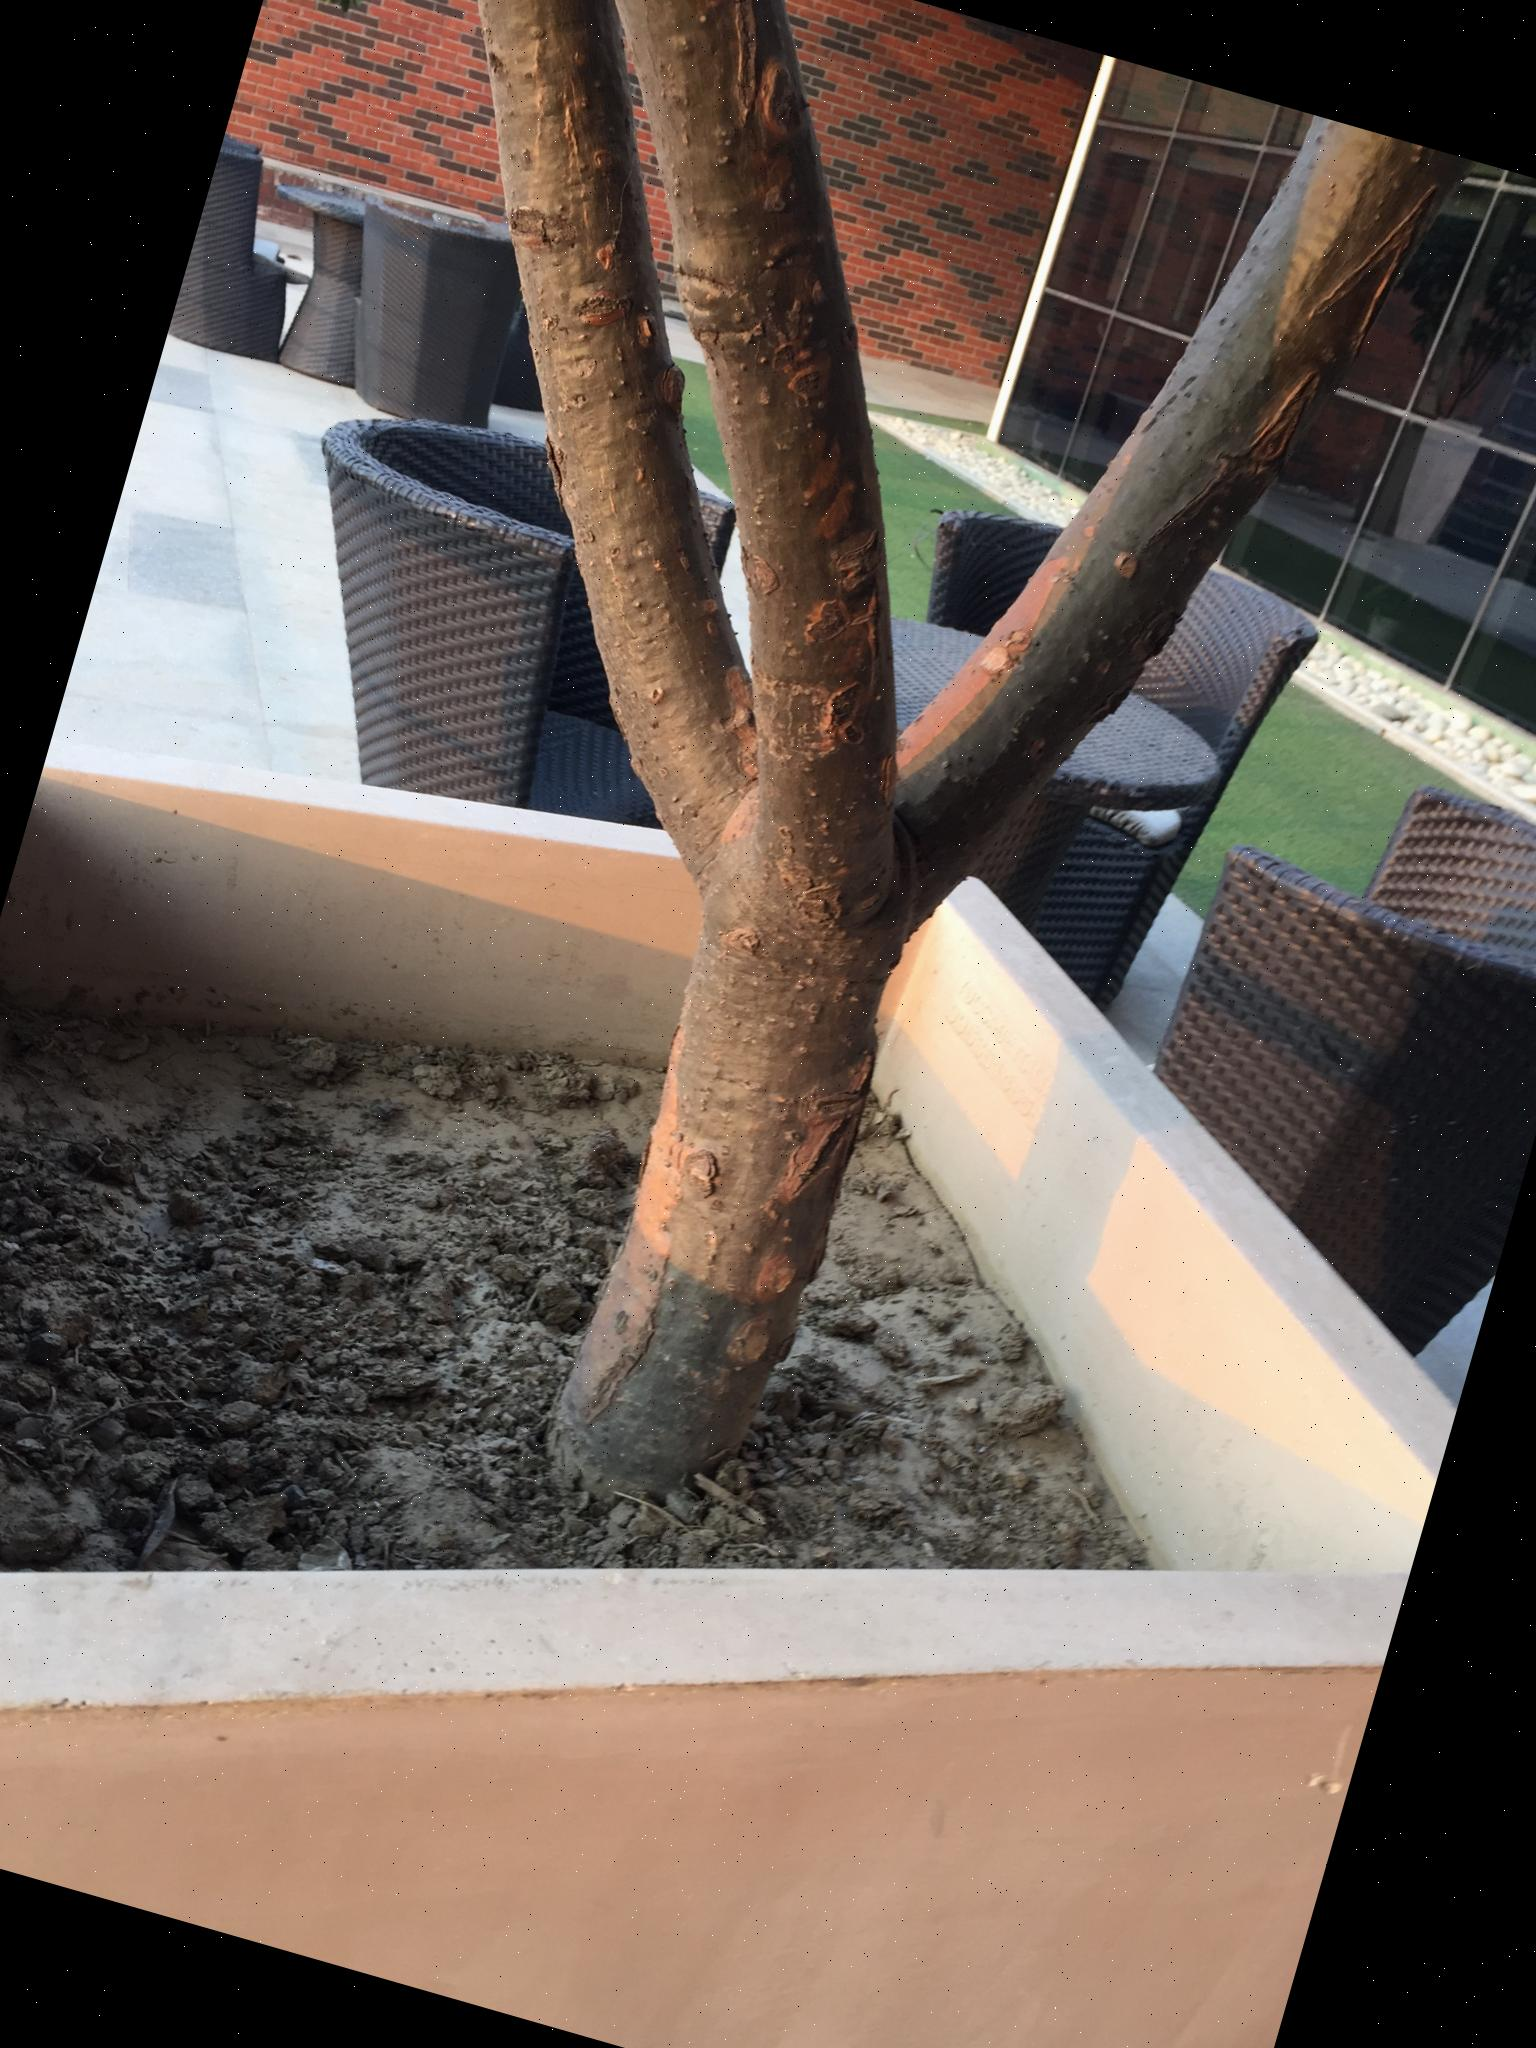chair: (803, 482, 1331, 1040), (1092, 729, 1536, 1376), (232, 377, 755, 866), (321, 181, 573, 448), (166, 132, 339, 369)
